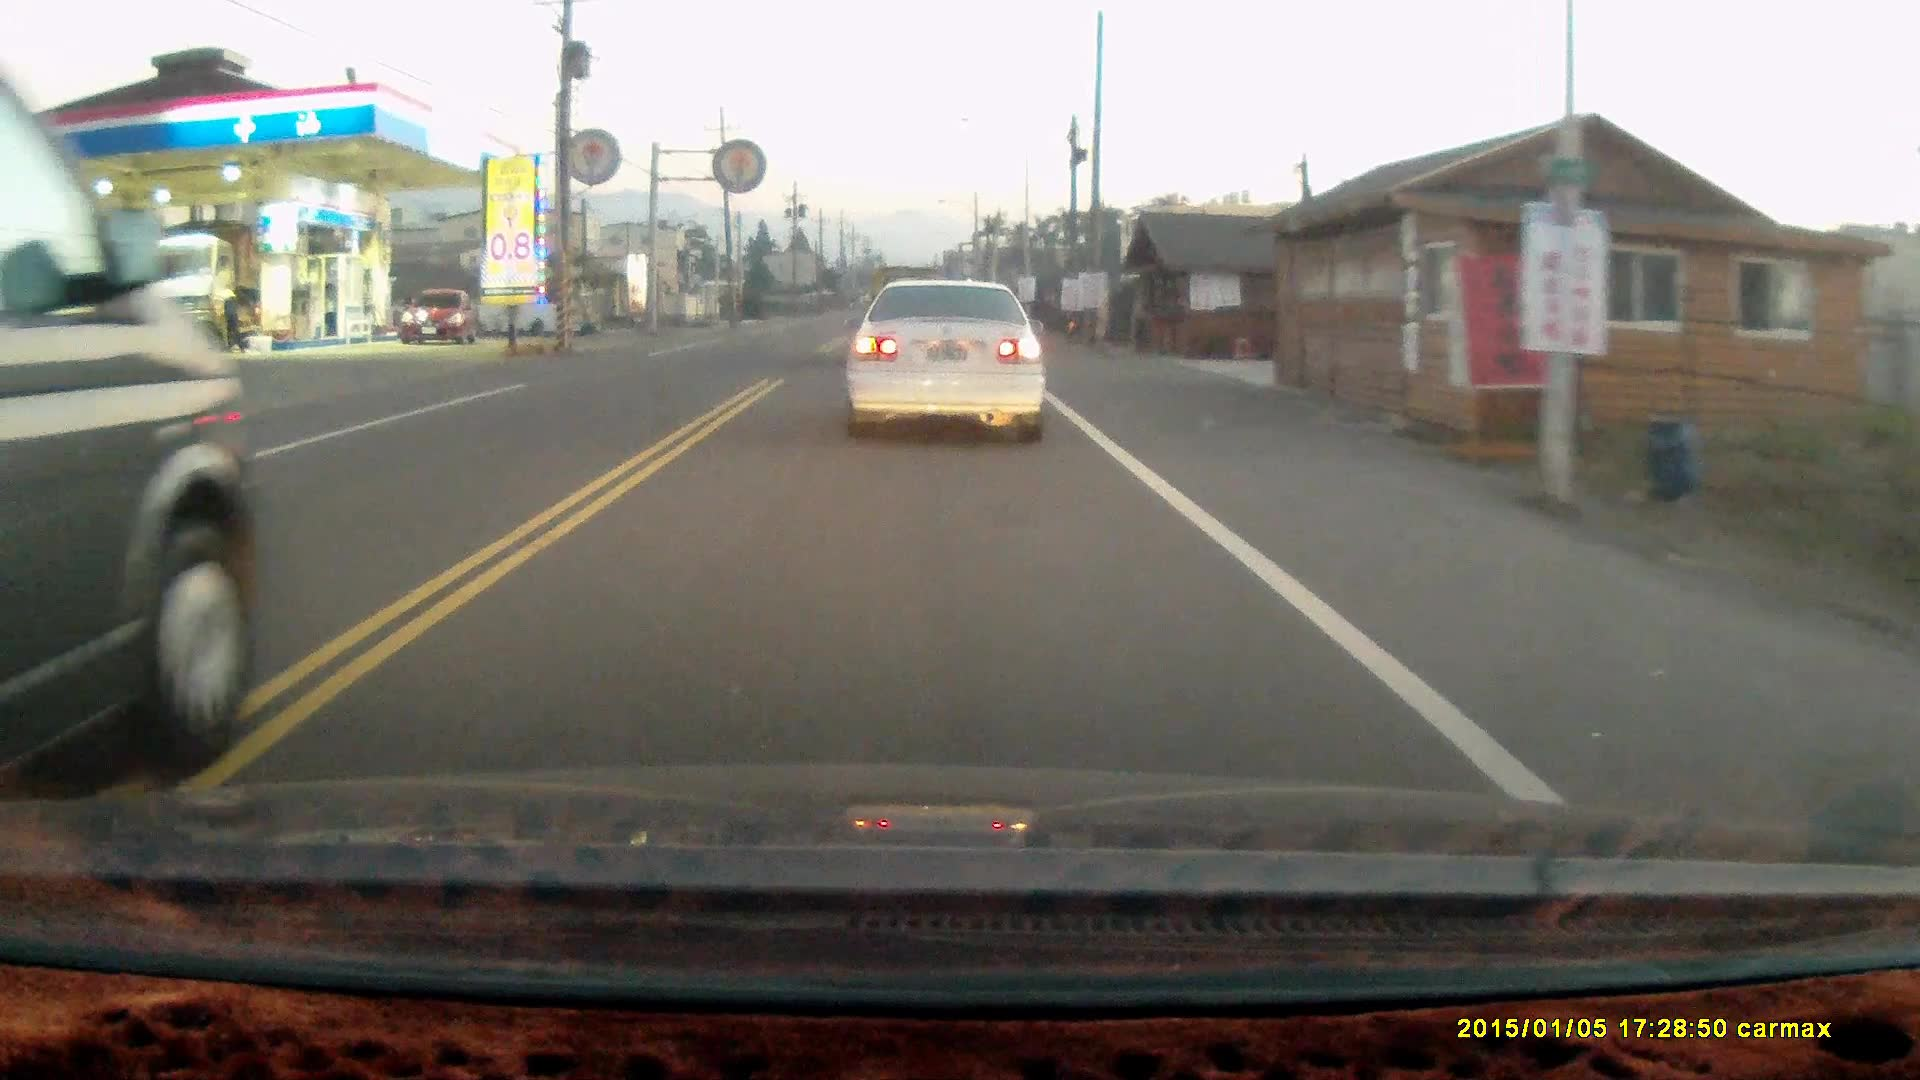pedestrian: (215, 280, 245, 355)
vehicle: (1, 92, 255, 795), (845, 280, 1051, 456), (130, 229, 257, 359), (399, 292, 480, 345)
